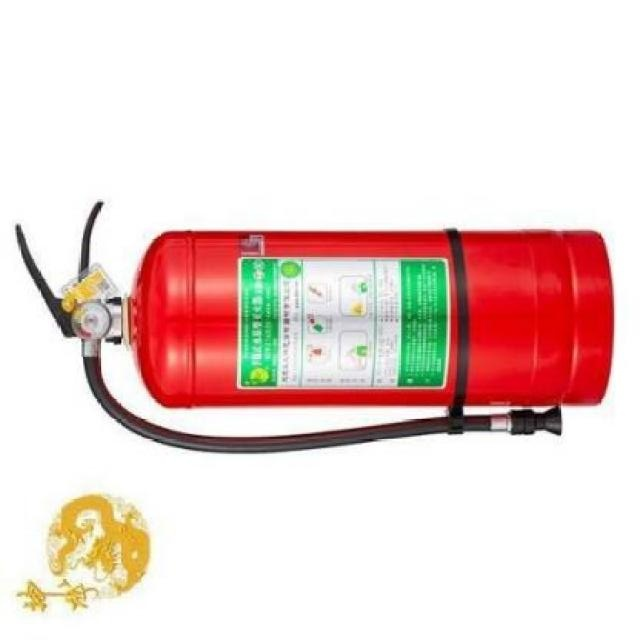fire extinguisher: (14, 200, 614, 454)
